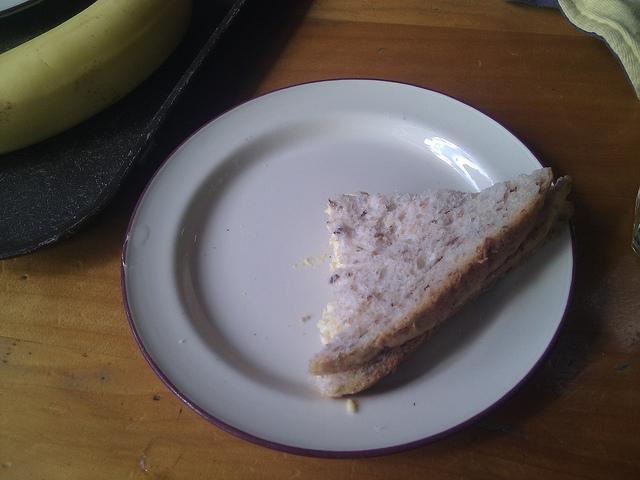banana: (0, 0, 192, 154)
